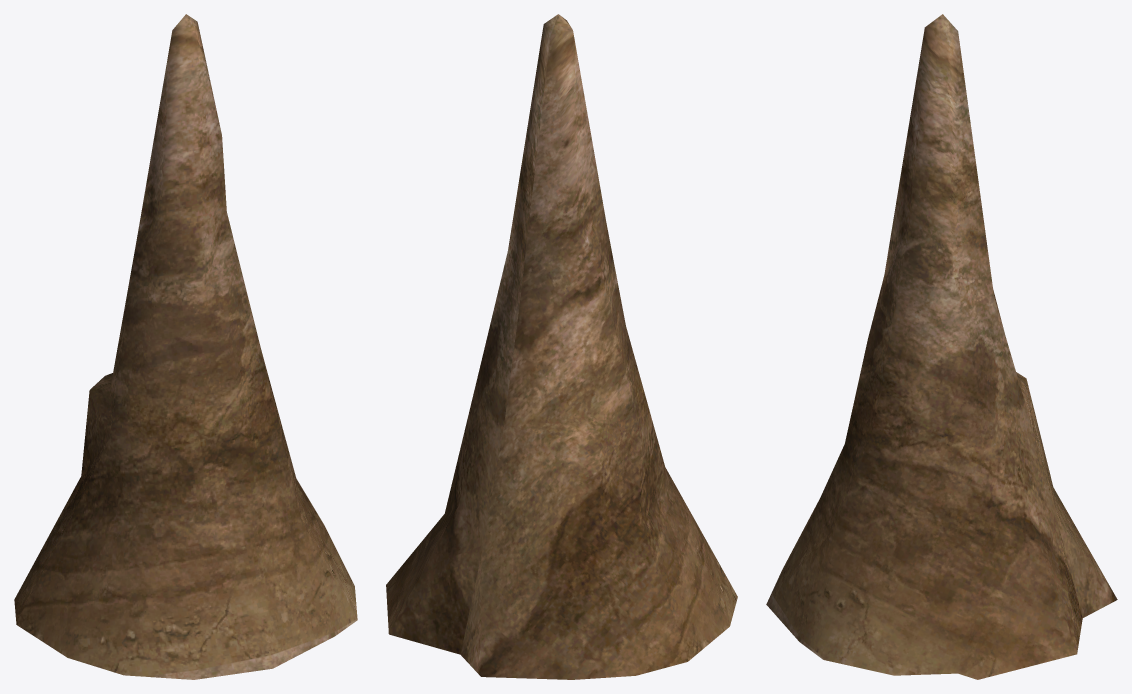
File: dcfx_tqmzz_01.FBX
The picture shows the model from 3 angles, left to right: view 1: azimuth 30°, elevation 25°; view 2: azimuth 150°, elevation 25°; view 3: azimuth 270°, elevation 25°; orthographic projection.
Parts seen in each view (by area): view 1: dcfx_tqmzz_01; view 2: dcfx_tqmzz_01; view 3: dcfx_tqmzz_01.
Part boxes in pixels (x1=…): dcfx_tqmzz_01: x1=14, y1=14, x2=357, y2=679; dcfx_tqmzz_01: x1=386, y1=14, x2=737, y2=679; dcfx_tqmzz_01: x1=766, y1=14, x2=1117, y2=679.
Size of the model in its own units: 84.14 by 157 by 84.57.
